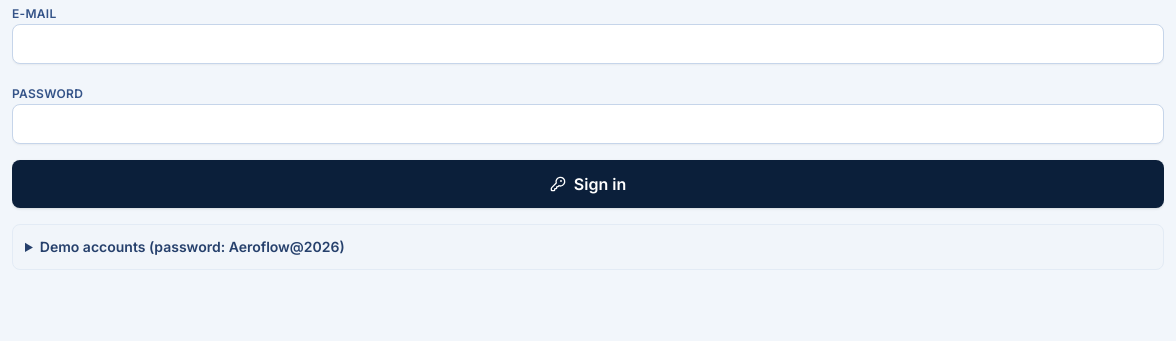
Test: LoginForm › displays the server error message on bad credentials
Type "x@aeroflow.dev" into the field labelled "E-mail".
click(588, 44); type("x@aeroflow.dev")  # box [12,24,1164,64]
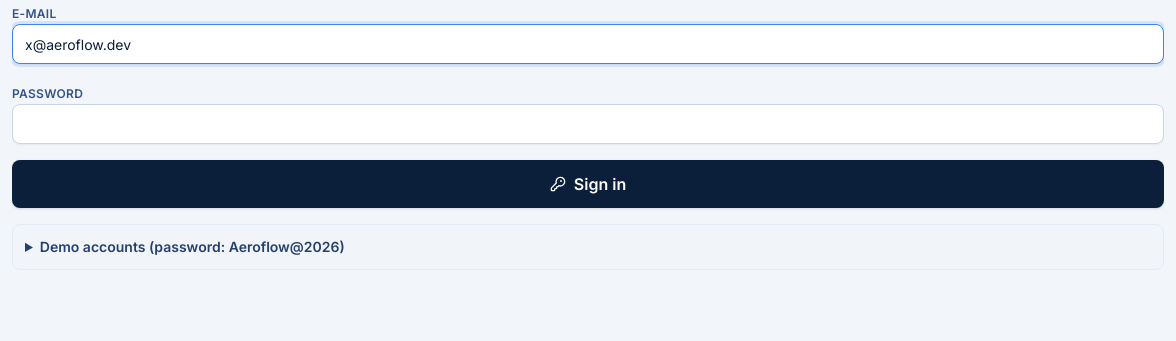
Type "nope" into the password field labelled "Password".
click(588, 124); type("nope")  # box [12,104,1164,144]
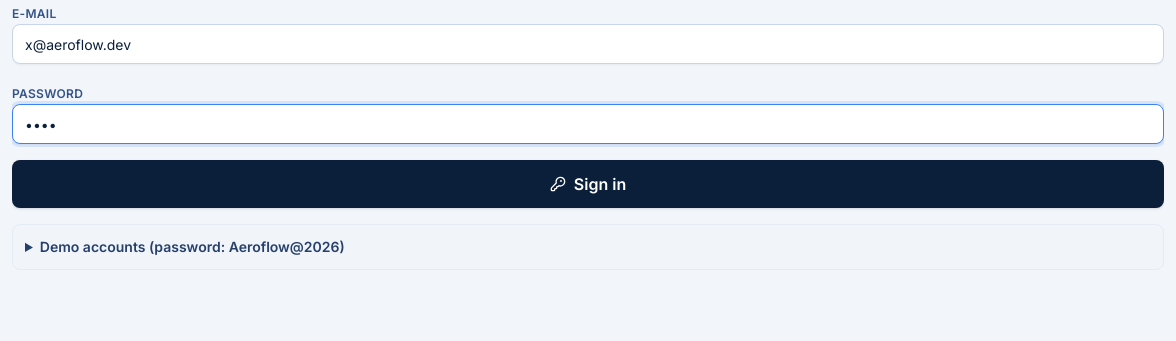
Click the button "Sign in".
click(588, 184)  # box [12,160,1164,208]
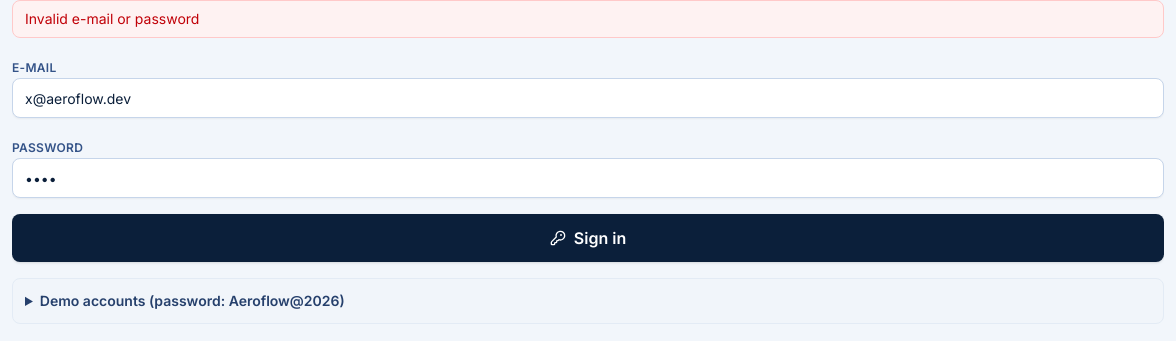
Result: the message reads "Invalid e-mail or password" at [25,10,199,27]
